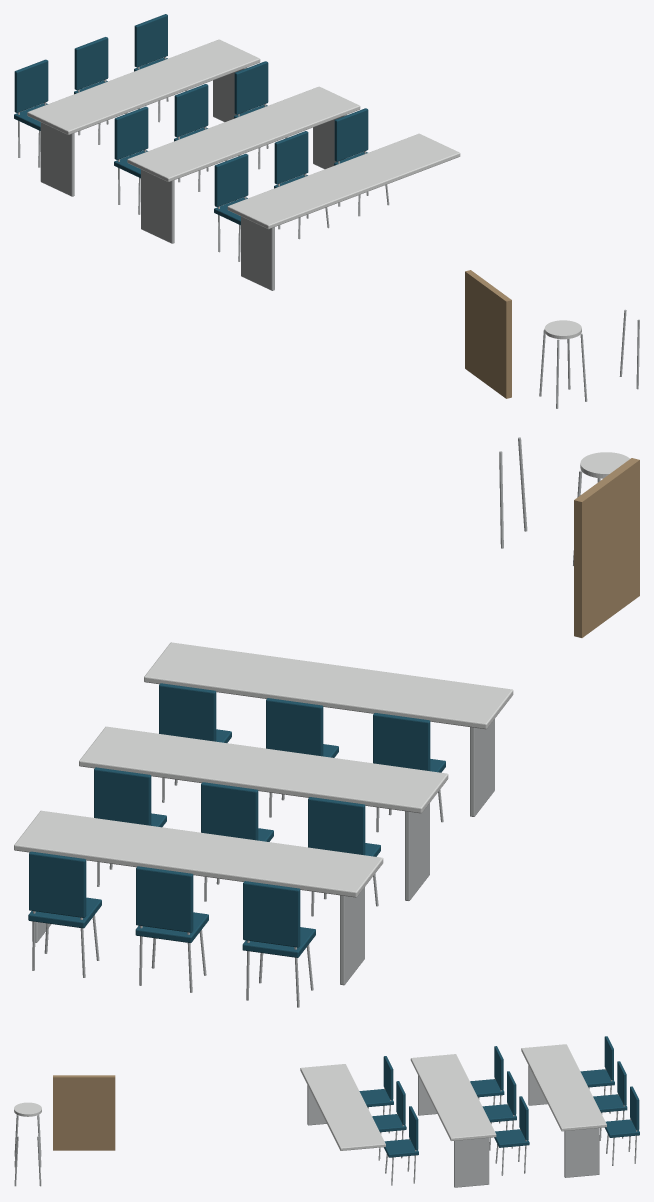
File: SM_L1_Furniture_Solid_36a50f474f_0.fbx
3 renders of one model, top to bottom at view 1: azimuth 30°, elevation 25°; view 2: azimuth 150°, elevation 25°; view 3: azimuth 270°, elevation 25°, orthographic. The views are drawn at different scales.
Parts seen in each view (by area): view 1: SM_L1_Furniture_Solid_36a50f474f_0; view 2: SM_L1_Furniture_Solid_36a50f474f_0; view 3: SM_L1_Furniture_Solid_36a50f474f_0.
Part boxes in pixels (left/top/right/bottom): SM_L1_Furniture_Solid_36a50f474f_0: left=14, top=14, right=639, bottom=408; SM_L1_Furniture_Solid_36a50f474f_0: left=14, top=437, right=639, bottom=1007; SM_L1_Furniture_Solid_36a50f474f_0: left=14, top=1036, right=639, bottom=1187.
Bounding box in the file's own units: 3.17 × 8.04 × 1.04.
